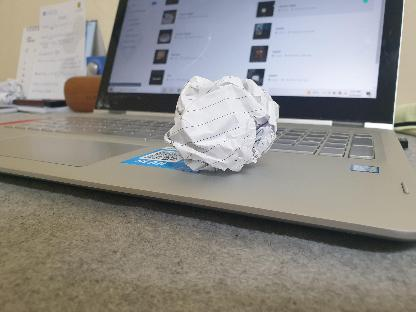Paper: (162, 73, 288, 179)
